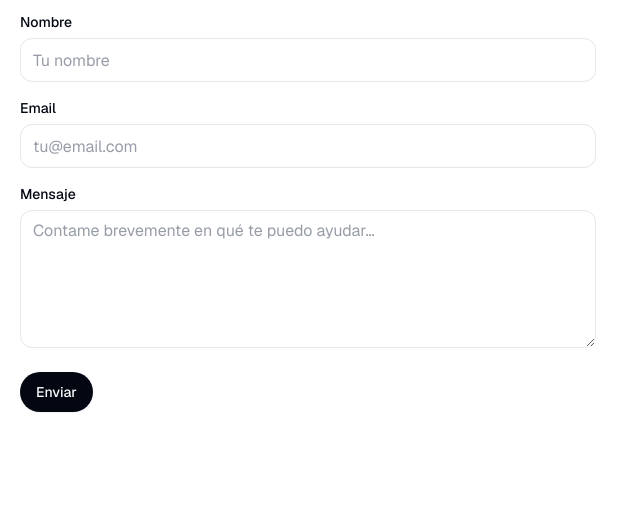
Test case: ContactForm › muestra errores de validación cuando se envía vacío
The width and height of the screenshot is (617, 507).
Click the button "Enviar".
click(56, 392)  # box [20,372,93,412]
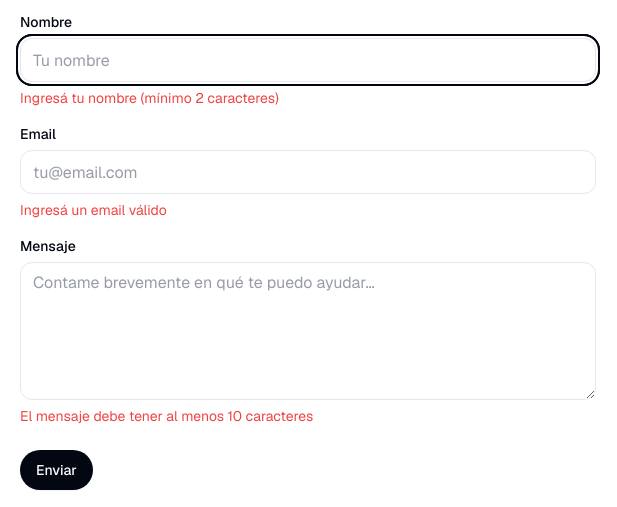
Result: the text "Ingresá tu nombre (mínimo 2 caracteres)" is shown at [20,89,279,107]
Result: the text "Ingresá un email válido" is shown at [20,201,167,219]
Result: the text "El mensaje debe tener al menos 10 caracteres" is shown at [20,407,313,425]
